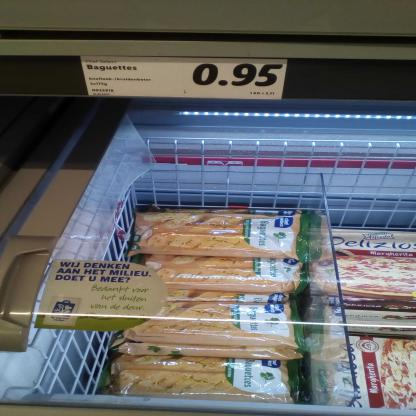prtg: (81, 57, 289, 101)
